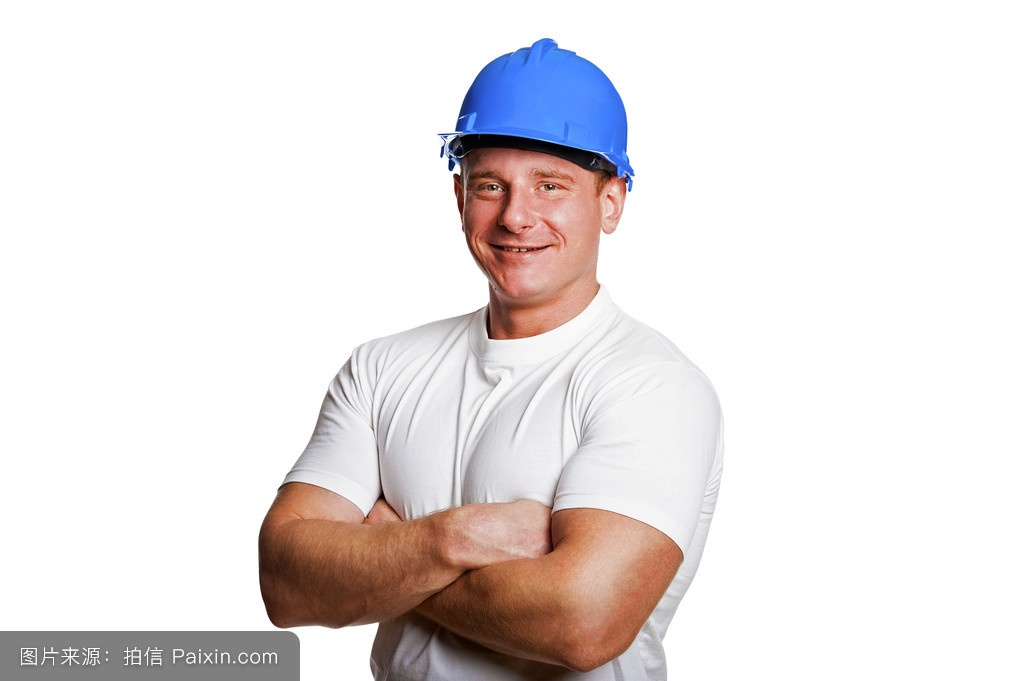blue: (439, 39, 633, 294)
